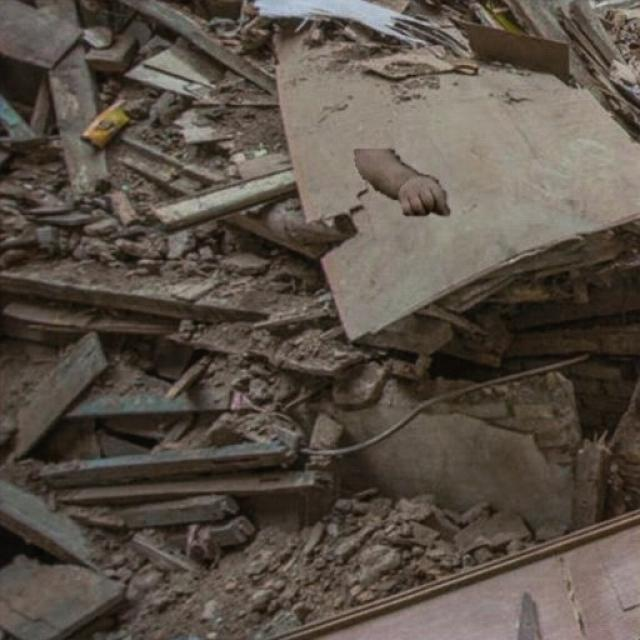Person in Rubble: (354, 149, 448, 215)
